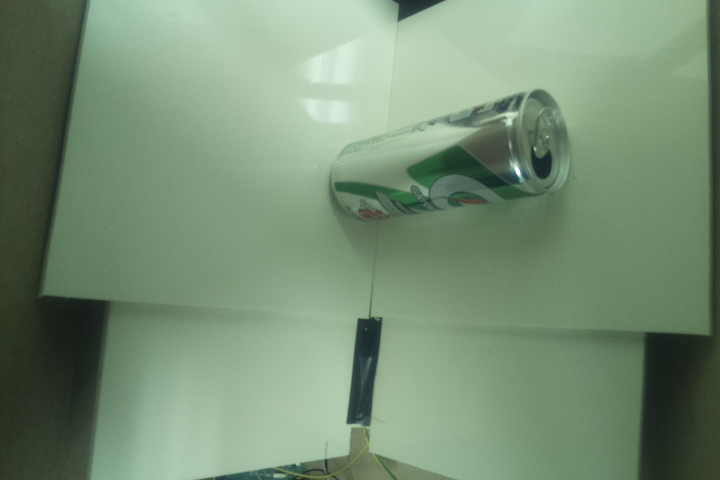can: (323, 85, 571, 227)
